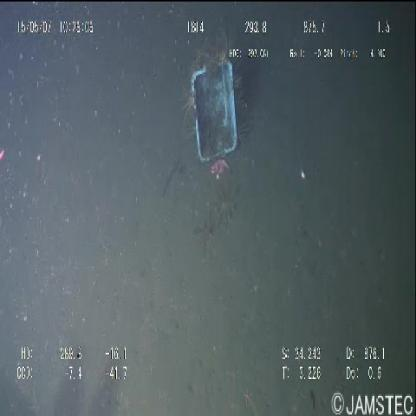Rác: (180, 47, 242, 176)
